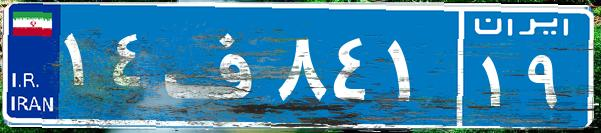1: (385, 28, 445, 110), (57, 26, 110, 107), (475, 38, 525, 113)
4: (330, 28, 385, 110), (110, 28, 158, 105)
8: (273, 28, 330, 110)
9: (525, 38, 570, 115)
ف: (158, 15, 273, 115)
